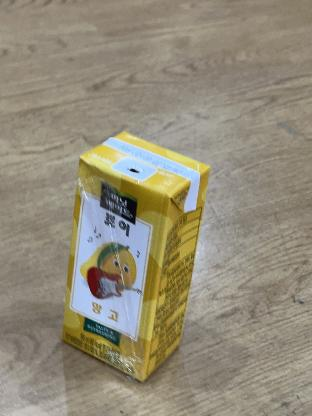Others: (62, 120, 190, 382)
